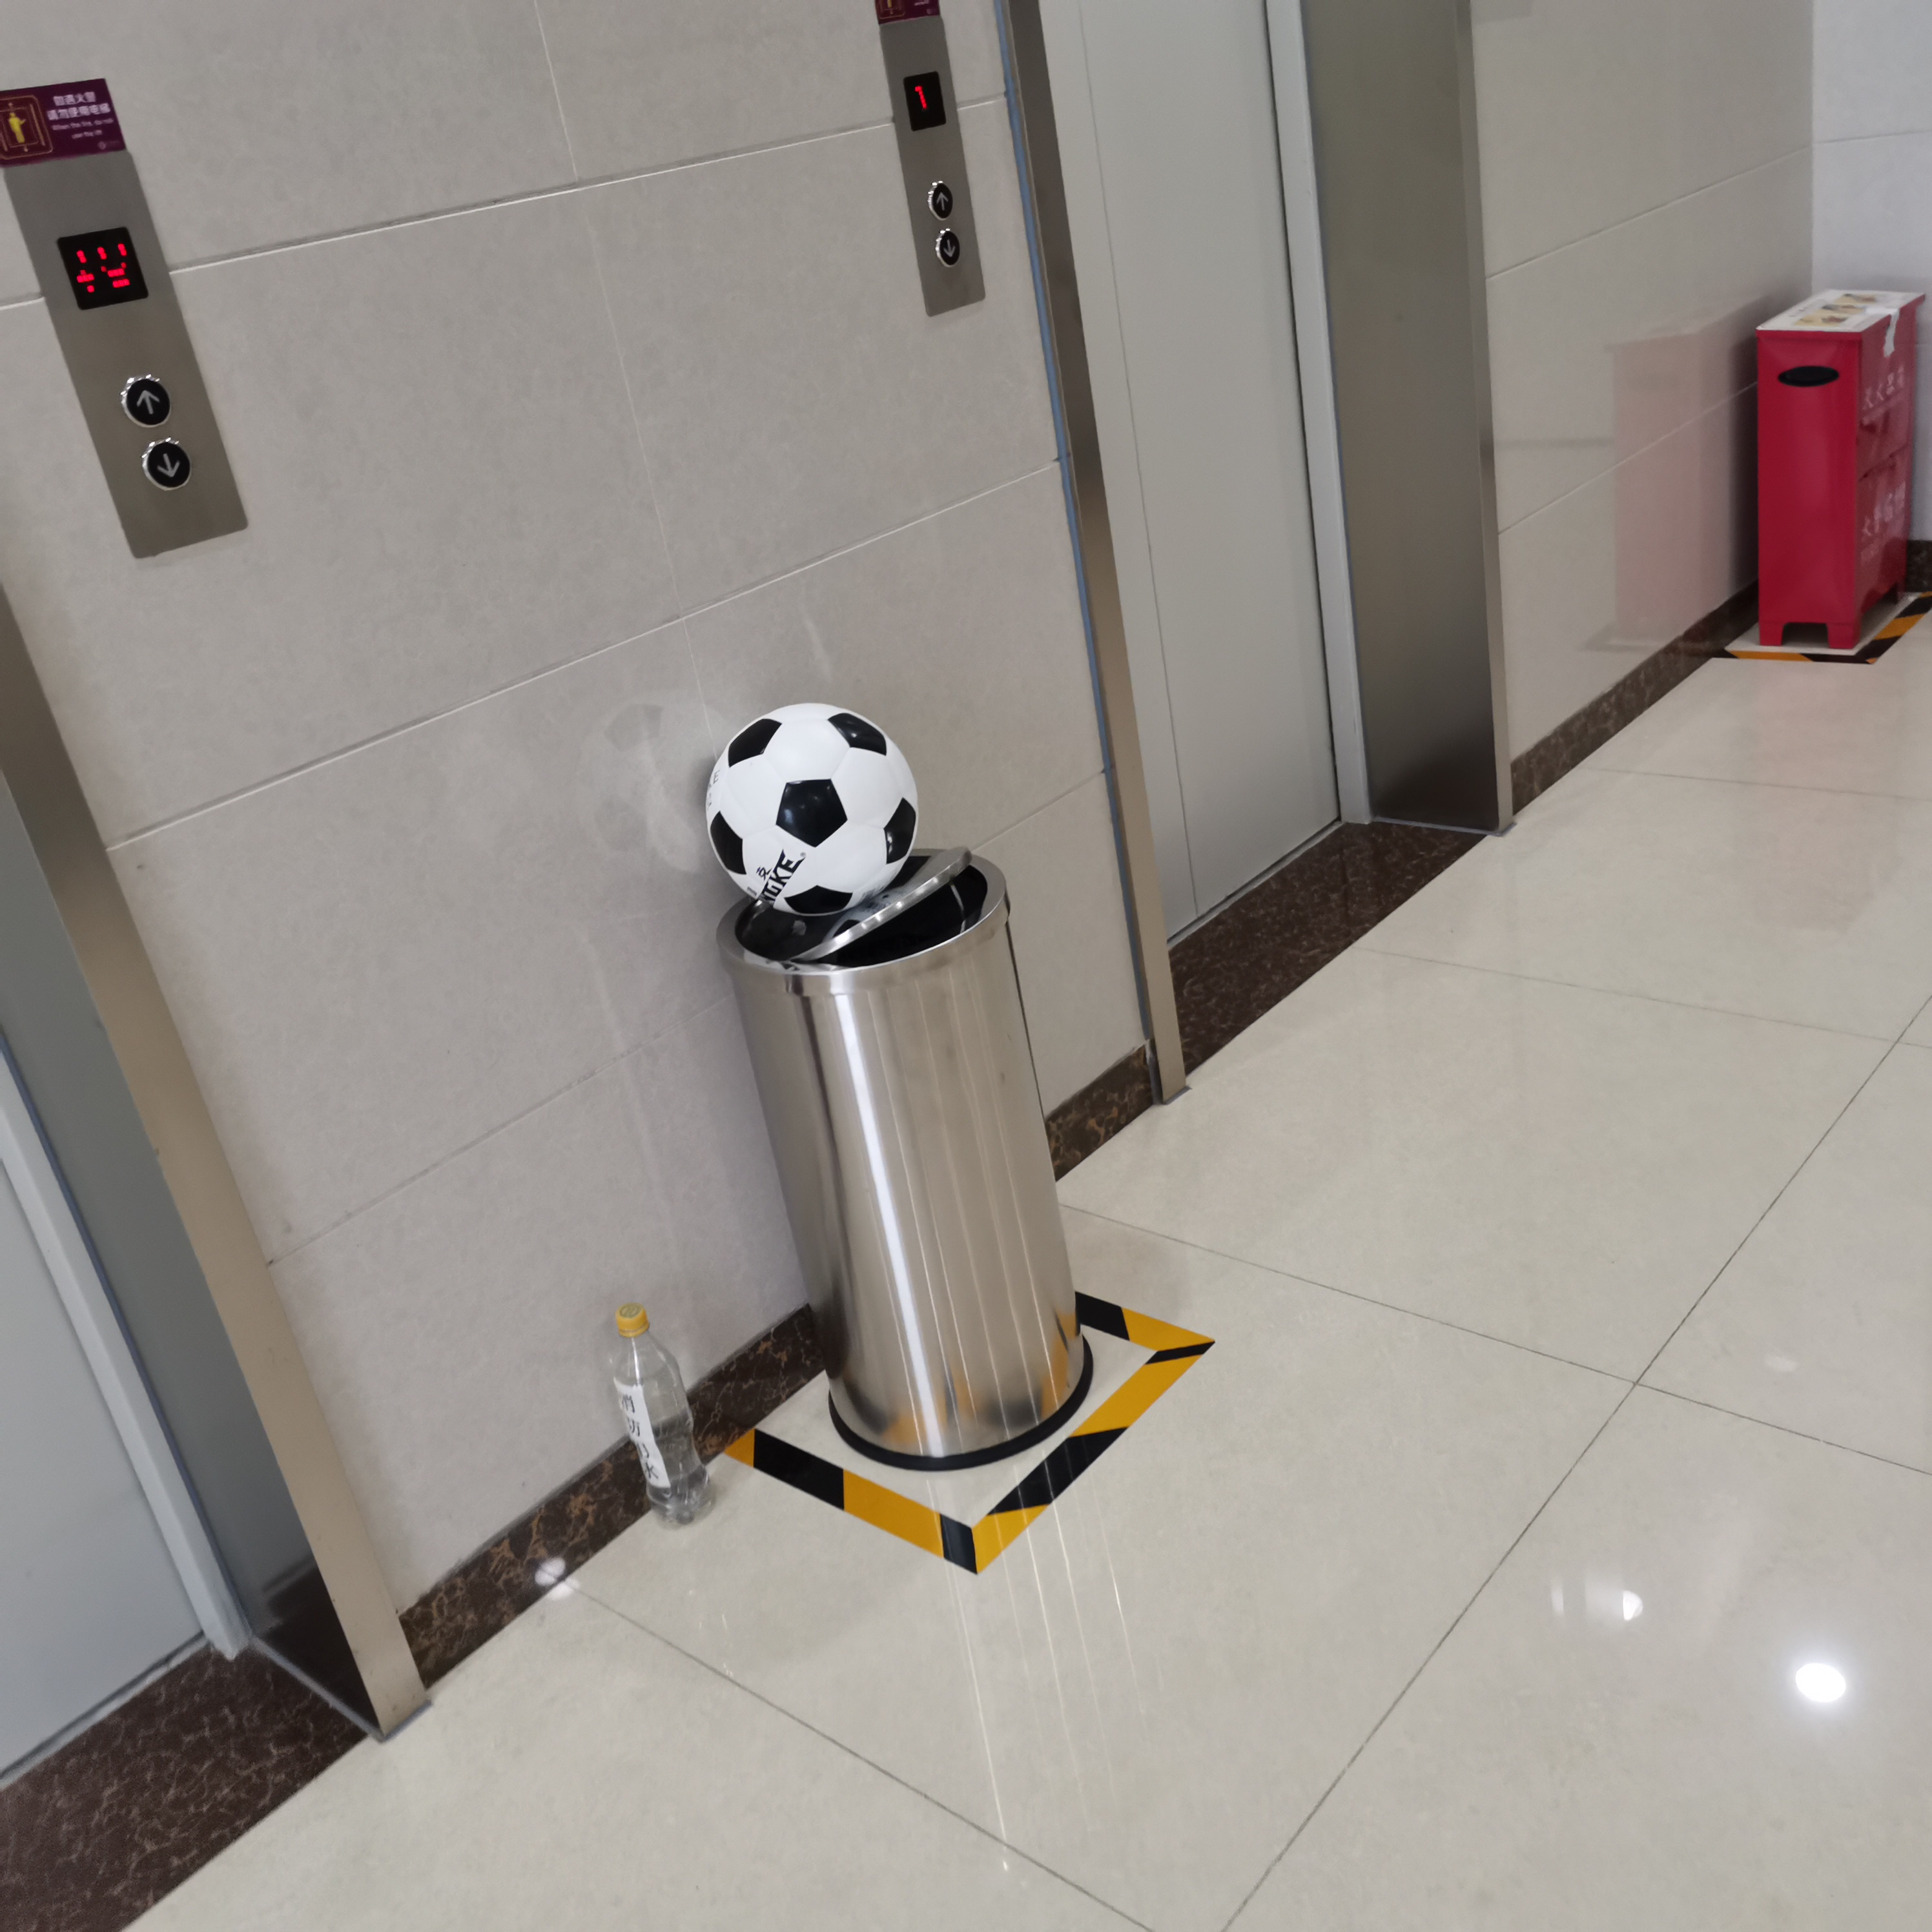football: (702, 702, 916, 918)
